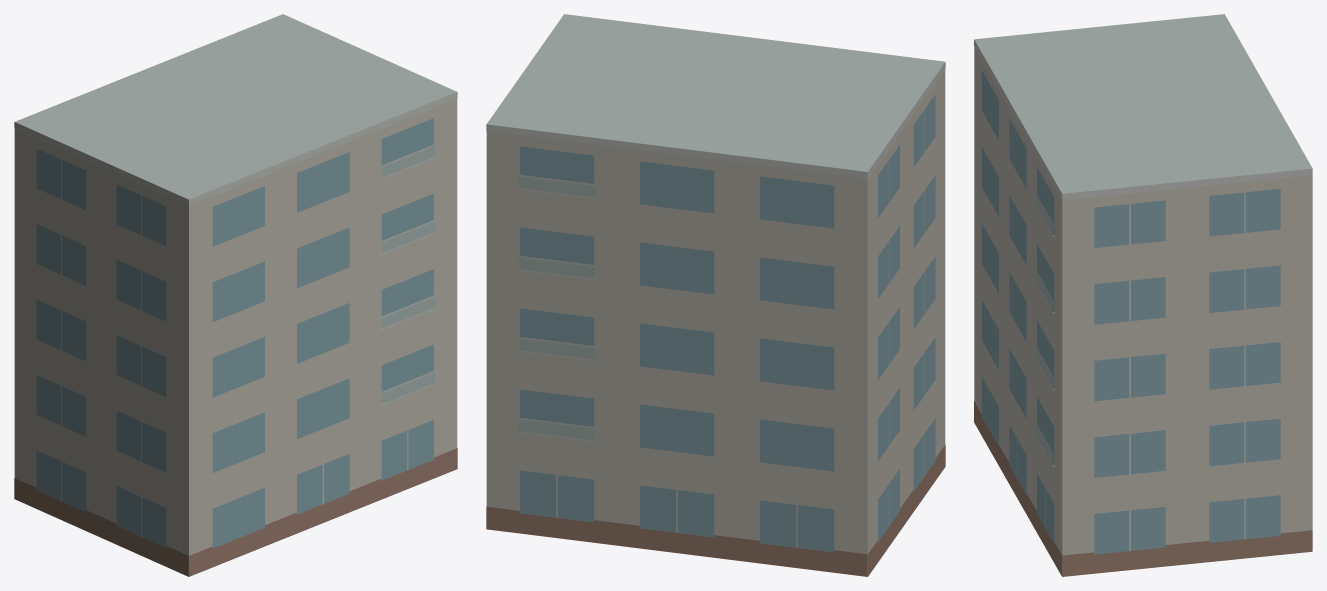
File: survey-upis-32532901.glb
The picture shows the model from 3 angles, left to right: view 1: azimuth 30°, elevation 25°; view 2: azimuth 150°, elevation 25°; view 3: azimuth 270°, elevation 25°; orthographic projection. The views are drawn at different scales.
Visible parts, largest first — view 1: survey-upis-32532901.tmp; view 2: survey-upis-32532901.tmp; view 3: survey-upis-32532901.tmp.
Part boxes in pixels (bbox=[...]): survey-upis-32532901.tmp: bbox=[14, 14, 457, 576]; survey-upis-32532901.tmp: bbox=[486, 14, 945, 576]; survey-upis-32532901.tmp: bbox=[974, 14, 1312, 576].
Bounding box in the file's own units: 14.07 × 13.96 × 11.19.
